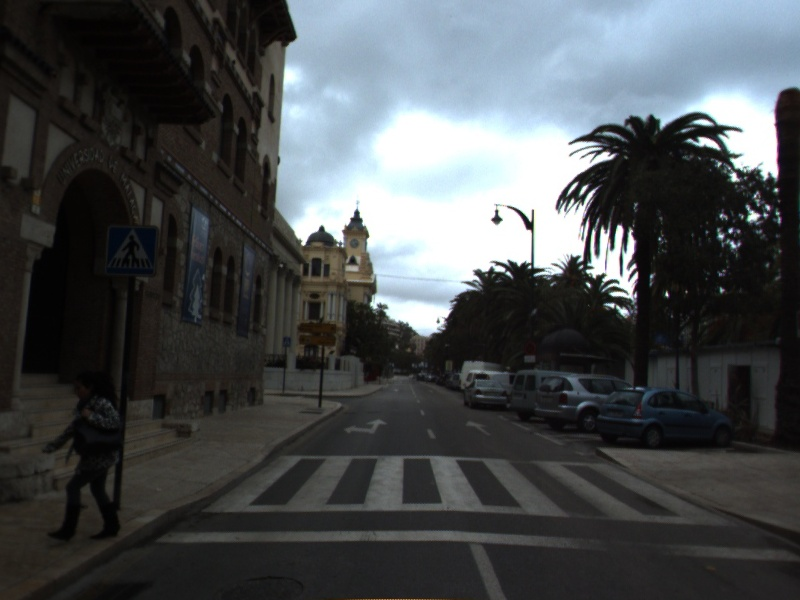STRAIGHT: (463, 418, 493, 438)
STRAIGHT_LEFT: (341, 417, 389, 436)
